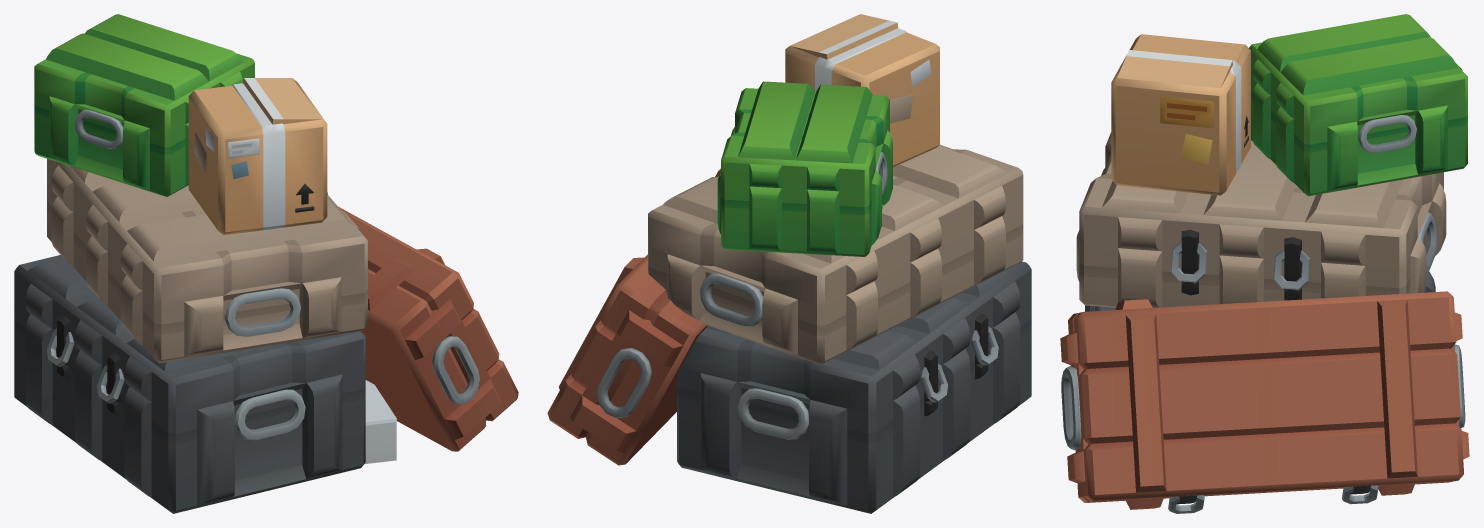
The model's file is containers_pile_large.glb.
The picture shows the model from 3 angles, left to right: view 1: azimuth 30°, elevation 25°; view 2: azimuth 150°, elevation 25°; view 3: azimuth 270°, elevation 25°; orthographic projection. The views are drawn at different scales.
Visible parts, largest first — view 1: Containers_Pile_Large; view 2: Containers_Pile_Large; view 3: Containers_Pile_Large.
Part boxes in pixels (x1,y1,x2,y2): Containers_Pile_Large: (14,14,518,513); Containers_Pile_Large: (547,14,1031,513); Containers_Pile_Large: (1060,14,1469,513).
Bounding box in the file's own units: 1.83 × 1.75 × 1.73.
Materials: 1 (1 with a texture image).
